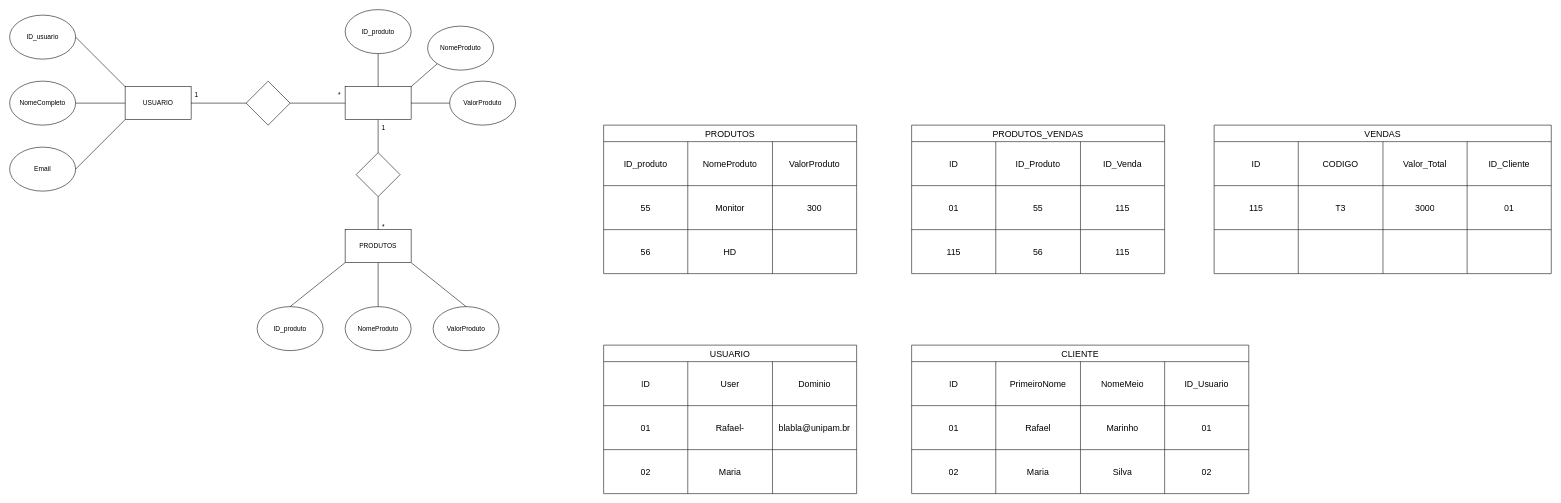
Image size: 1561x503. Some labels were removed from this diagram. The centre of each missing label's shape, as x and y in pixels:
"COMPRA" belongs at pixel 378 103.
"POSSUI" belongs at pixel 378 174.
"REALIZA" belongs at pixel 268 103.
